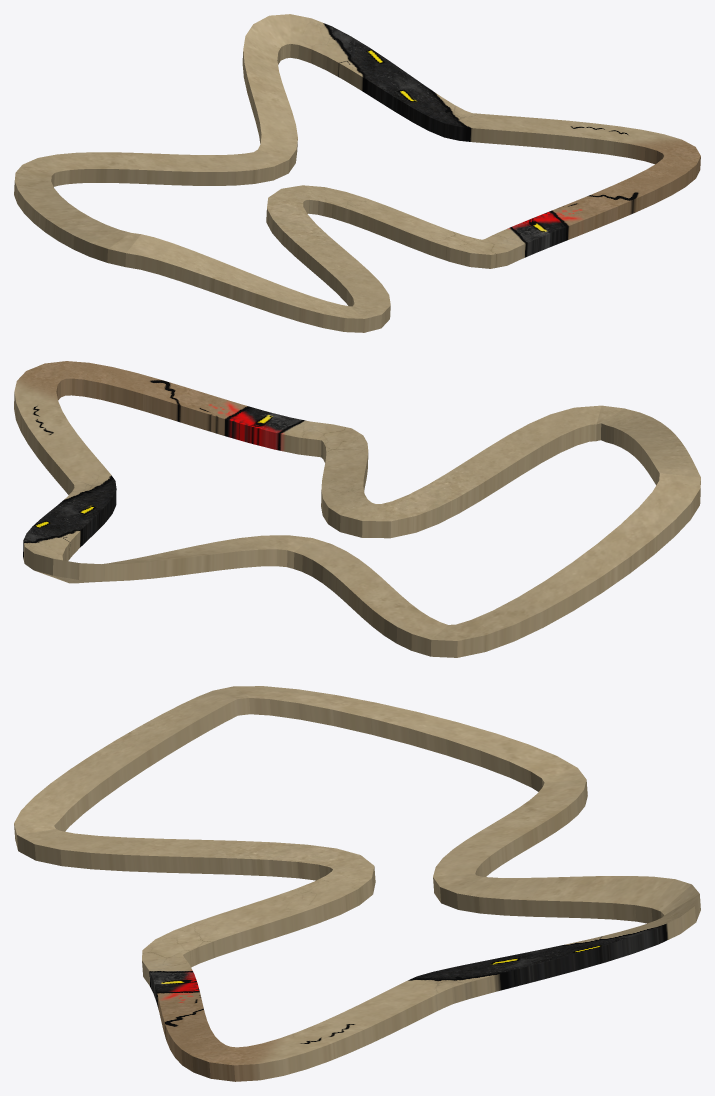
File: circuitOld.obj
The picture shows the model from 3 angles, top to bottom: view 1: azimuth 30°, elevation 25°; view 2: azimuth 150°, elevation 25°; view 3: azimuth 270°, elevation 25°; orthographic projection. The views are drawn at different scales.
Parts seen in each view (by area): view 1: BezierCurve.001_CUBezierCurve.002; view 2: BezierCurve.001_CUBezierCurve.002; view 3: BezierCurve.001_CUBezierCurve.002.
Part boxes in pixels (box(x1,y1,x2,y2)): BezierCurve.001_CUBezierCurve.002: box(14, 14, 700, 332); BezierCurve.001_CUBezierCurve.002: box(14, 361, 700, 657); BezierCurve.001_CUBezierCurve.002: box(14, 686, 700, 1081).
Bounding box in the file's own units: 1699 × 222 × 1472.
